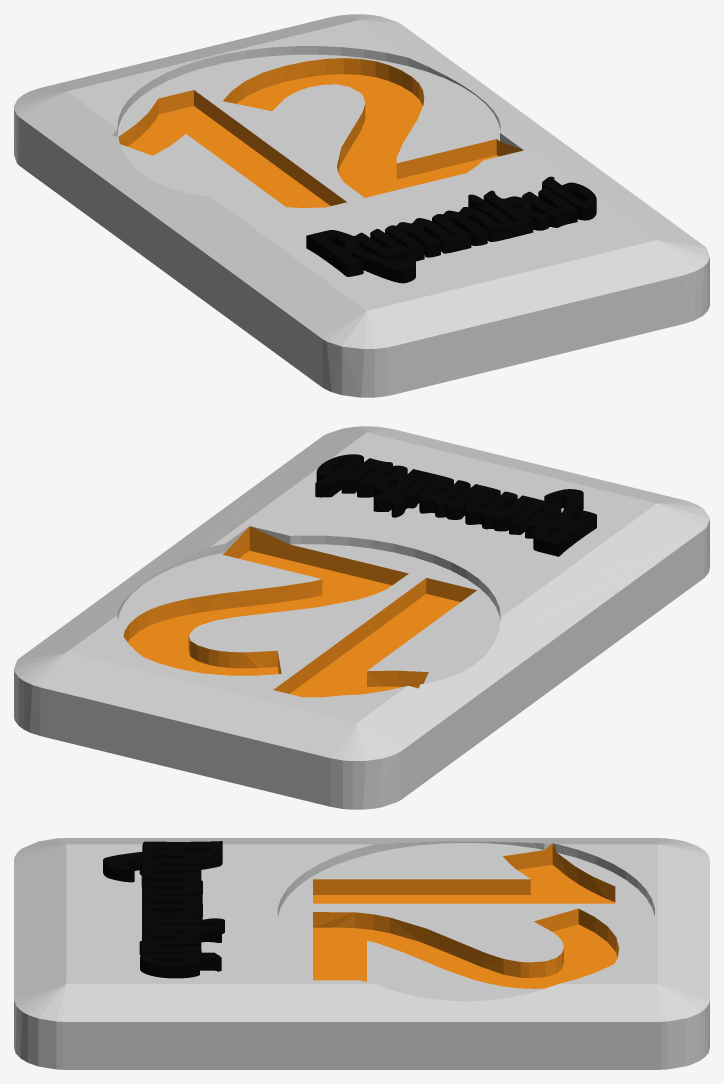
3 renders of one model, top to bottom at view 1: azimuth 30°, elevation 25°; view 2: azimuth 150°, elevation 25°; view 3: azimuth 270°, elevation 25°, orthographic.
Parts seen in each view (by area): view 1: Rummikub 12 Fixed, Rummikub 1 Fixed.001; view 2: Rummikub 12 Fixed, Rummikub 1 Fixed.001; view 3: Rummikub 12 Fixed, Rummikub 1 Fixed.001.
Boxes of the visible parts, x1,y1,x2,y2 form: Rummikub 12 Fixed: (14, 14, 709, 397); Rummikub 1 Fixed.001: (306, 176, 596, 283); Rummikub 12 Fixed: (14, 426, 709, 809); Rummikub 1 Fixed.001: (315, 454, 596, 556); Rummikub 12 Fixed: (14, 838, 709, 1069); Rummikub 1 Fixed.001: (103, 841, 224, 978).
Bounding box in the file's own units: 2499 × 483 × 4000.
